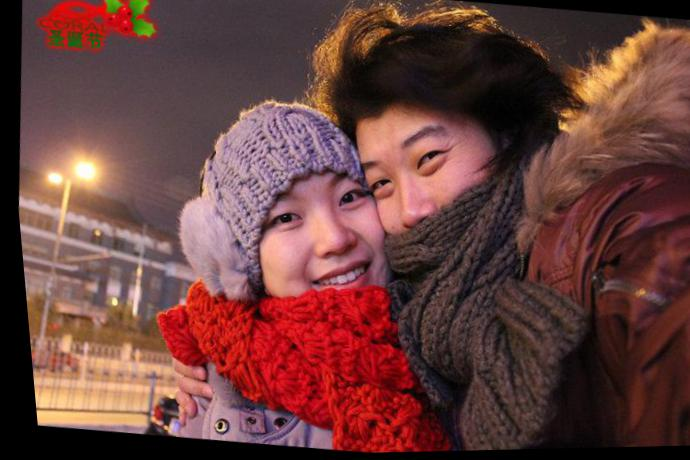NONE: (241, 163, 398, 336)
WRONG: (346, 113, 504, 283)
